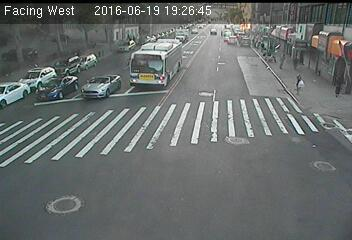neg: (141, 71, 157, 92), (188, 63, 199, 78), (192, 97, 203, 112), (223, 56, 232, 69)
pos: (289, 70, 307, 93), (274, 50, 288, 69)
